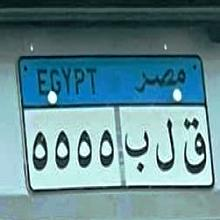5: (95, 126, 115, 173), (30, 129, 50, 173), (53, 127, 71, 174), (75, 127, 93, 170)
baa: (123, 125, 149, 176)
laam: (153, 115, 178, 177)
qaaf: (180, 116, 208, 175)
